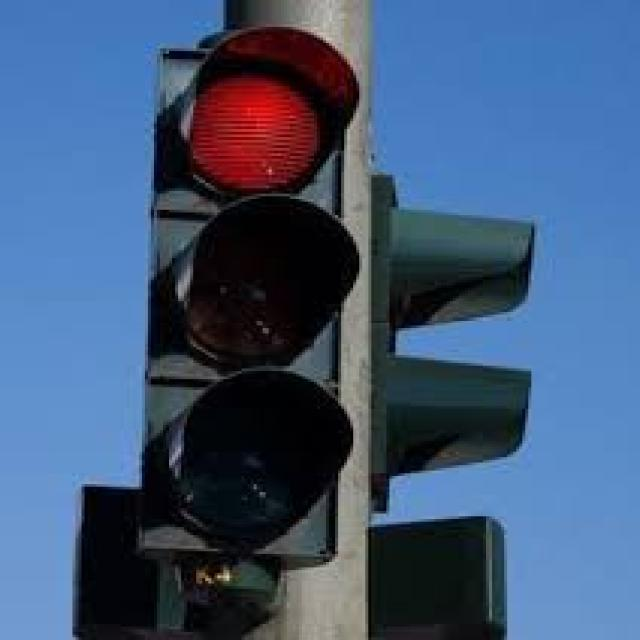feu: (78, 1, 534, 640)
